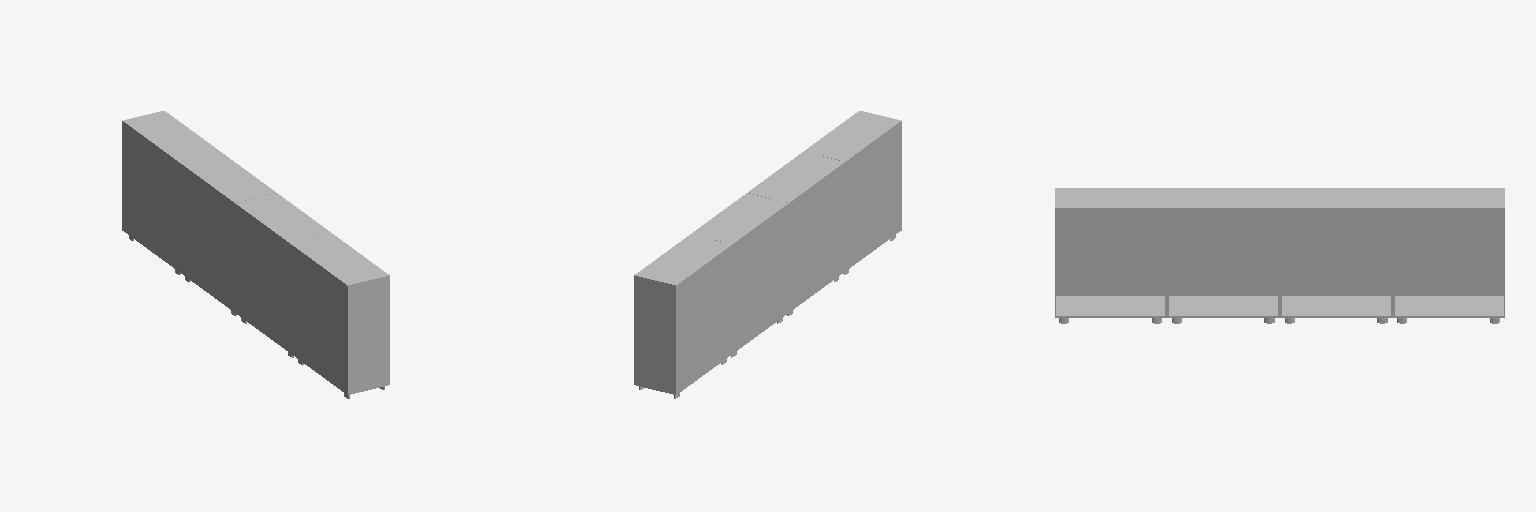
File: living_cabinet.obj
3 renders of one model, left to right at view 1: azimuth 30°, elevation 25°; view 2: azimuth 150°, elevation 25°; view 3: azimuth 270°, elevation 25°, orthographic.
Visible parts, largest first — view 1: cabinet_body, cabinet_body.003, cabinet_body.002, cabinet_body.001; view 2: cabinet_body.003, cabinet_body, cabinet_body.002, cabinet_body.001; view 3: cabinet_body.001, cabinet_body.002, cabinet_body, cabinet_body.003.
Part boxes in pixels (bbox=[...]): cabinet_body: bbox=[291, 234, 389, 398]; cabinet_body.003: bbox=[122, 111, 219, 274]; cabinet_body.002: bbox=[179, 152, 275, 315]; cabinet_body.001: bbox=[235, 193, 331, 357]; cabinet_body.003: bbox=[634, 234, 732, 398]; cabinet_body: bbox=[804, 111, 901, 274]; cabinet_body.002: bbox=[692, 193, 788, 357]; cabinet_body.001: bbox=[748, 152, 844, 315]; cabinet_body.001: bbox=[1167, 188, 1279, 323]; cabinet_body.002: bbox=[1280, 188, 1392, 323]; cabinet_body: bbox=[1055, 188, 1166, 323]; cabinet_body.003: bbox=[1393, 188, 1504, 323].
Bounding box in the file's own units: 0.4168 × 1.1 × 3.87.